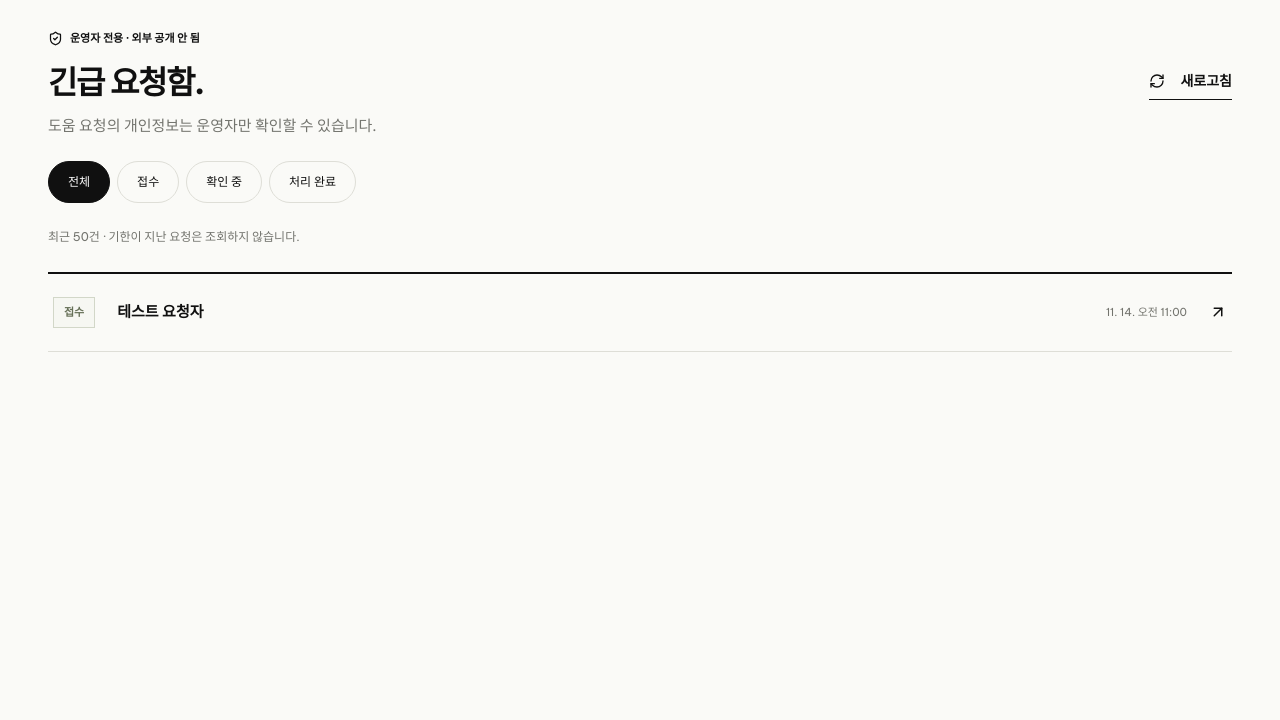
Test case: verified operators can open private requests and mark them resolved without caching their contents
Check: the heading "긴급 요청함." is shown, box [48,62,204,102]
Step 1. Click the button "접수 테스트 요청자 11. 14. 오전 11:00" → (74, 312), box [48,274,1232,352]
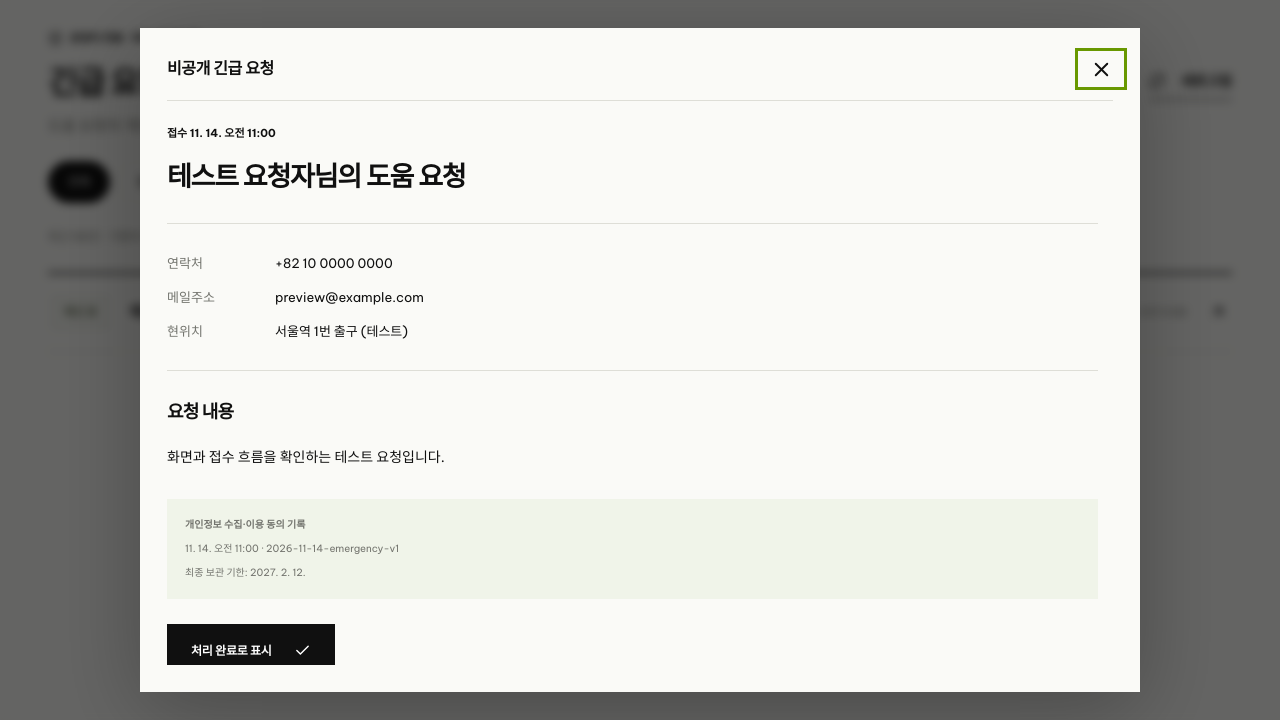
Check: the text "화면과 접수 흐름을 확인하는 테스트 요청입니다." is shown, box [167,448,445,466]
Check: the text "+82 10 0000 0000" is shown, box [275,255,393,271]
Check: the text "서울역 1번 출구 (테스트)" is shown, box [275,323,408,339]
Step 2. Click the button "처리 완료로 표시" → (251, 650), box [167,624,335,677]
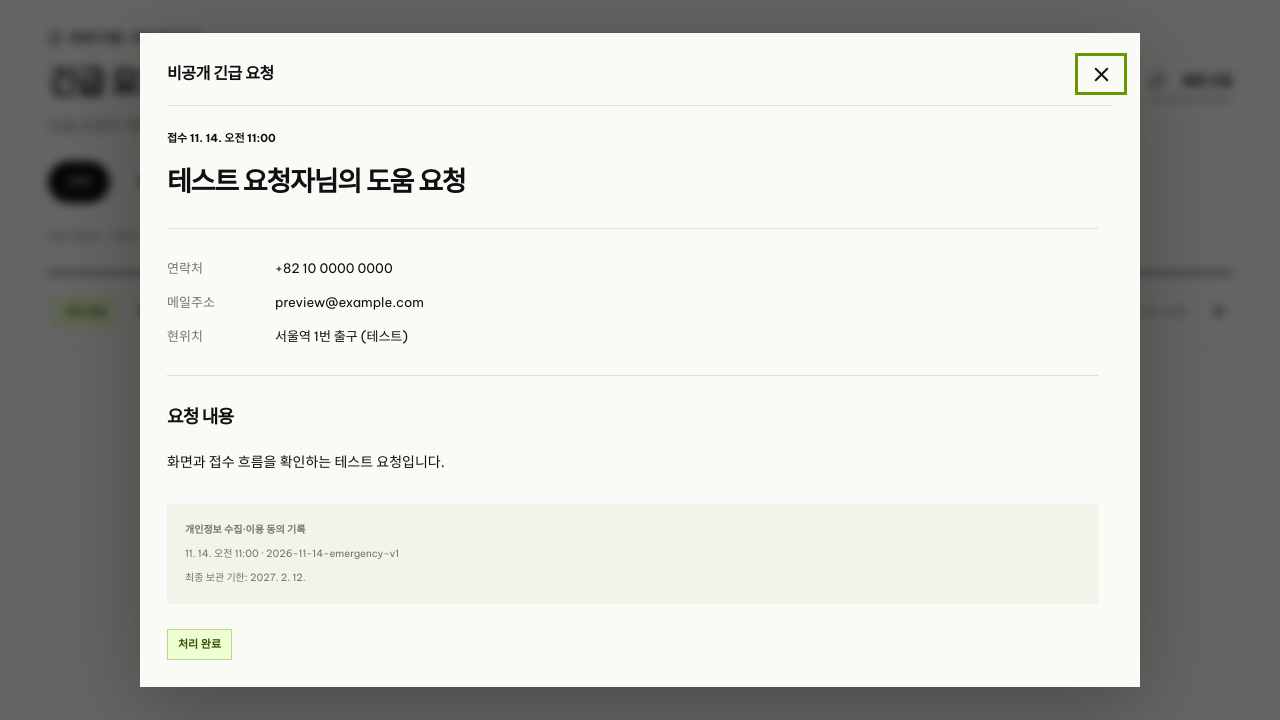
Check: the text "처리 완료" is shown, box [167,629,232,660]
